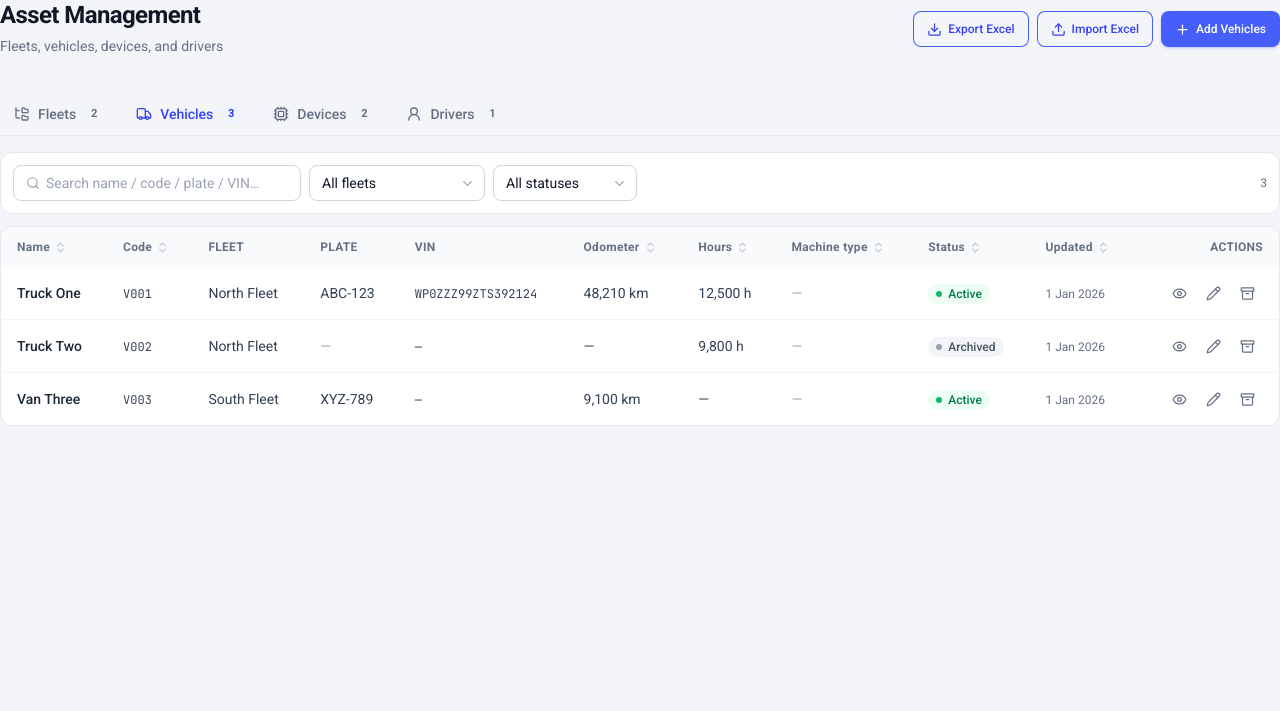
Test: AssetManagementPage › opens the vehicle detail drawer with its bound devices
The width and height of the screenshot is (1280, 711).
Click the text "Truck One".
click(49, 293)  # box [17,285,81,301]
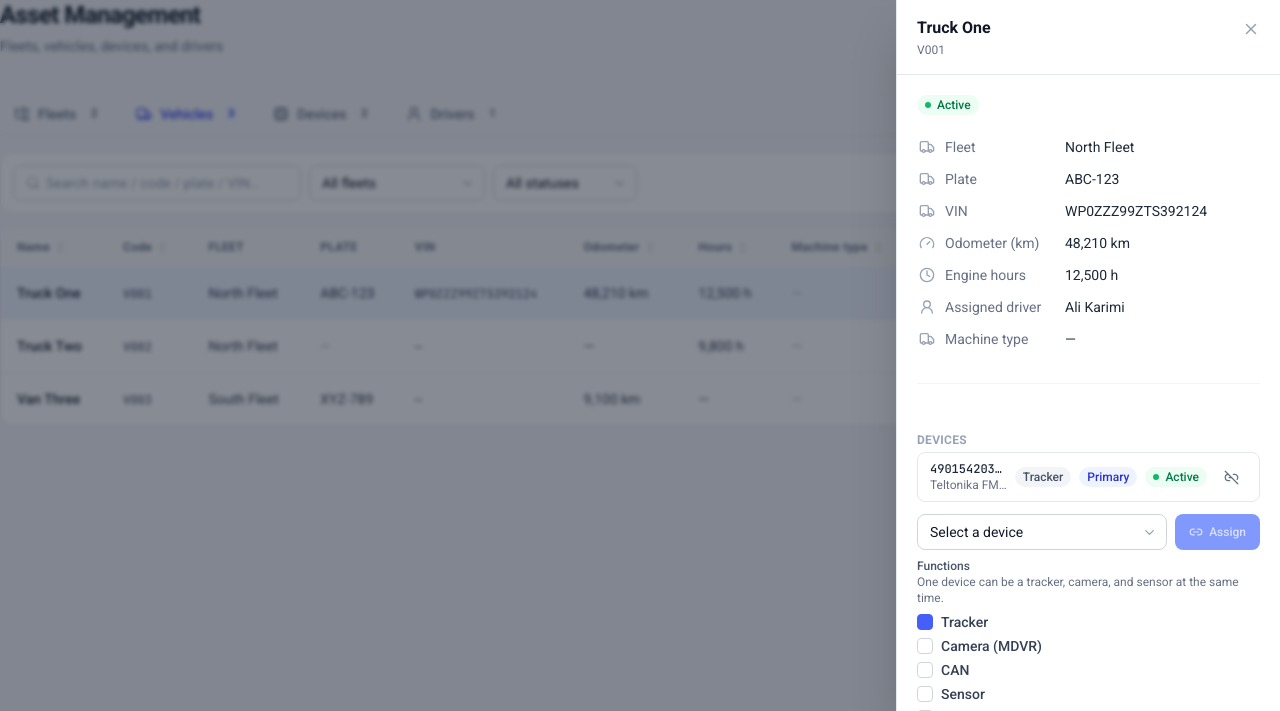
Expected: the text "490154203237518" is shown, [930,461,1007,477]
